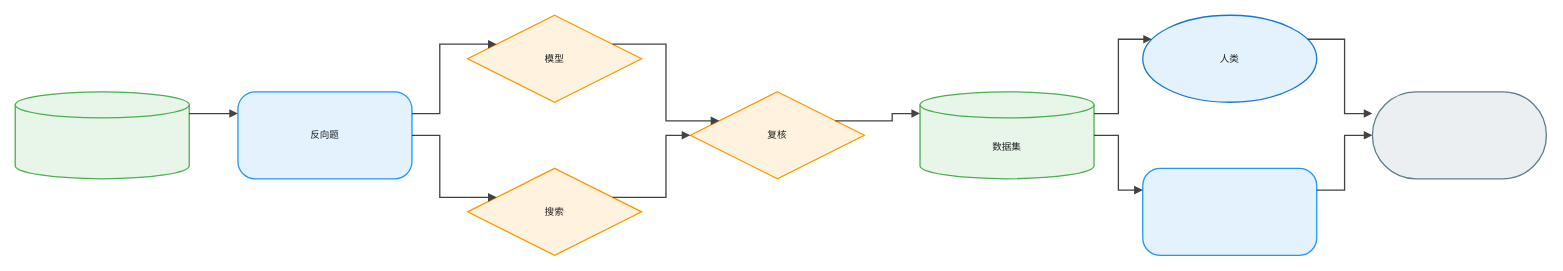
This 1563x271 diagram has some shape labels left out. The box of each missing label's shape, as (x1, y1, x2, y2) in pixels:
Agent: (1142, 167, 1317, 256)
种子: (14, 91, 189, 179)
评判: (1371, 91, 1547, 179)
